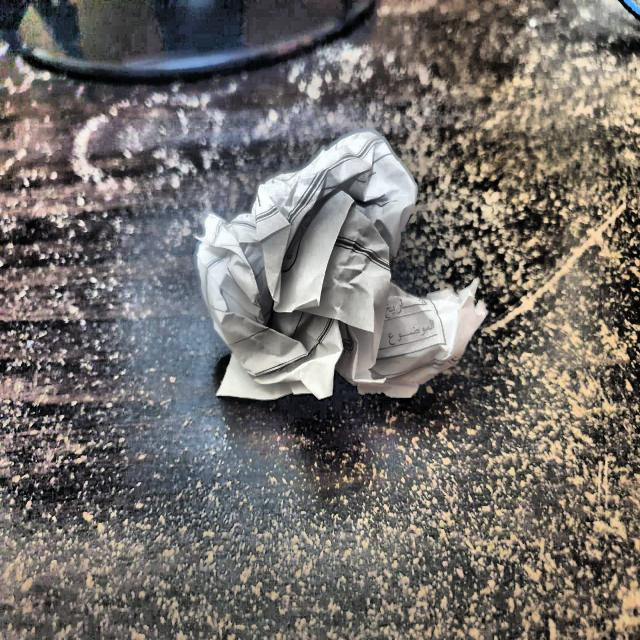Paper: (196, 123, 475, 424)
